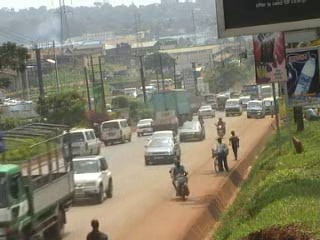Car: (68, 153, 115, 204), (143, 136, 185, 167), (176, 117, 207, 144), (145, 127, 181, 149), (136, 116, 157, 137), (196, 102, 216, 120)
Motorcycle: (168, 157, 191, 202), (214, 114, 228, 142)
